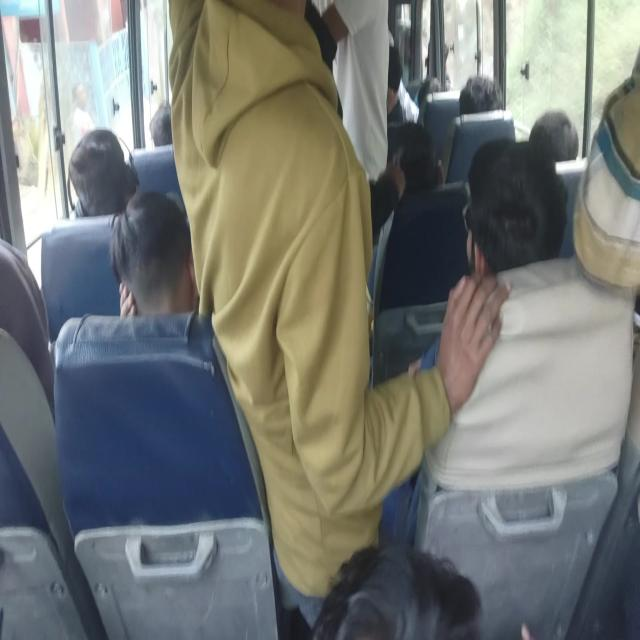person: (174, 0, 356, 419), (317, 492, 493, 640), (475, 158, 577, 350), (588, 52, 640, 387), (115, 207, 208, 336), (0, 250, 45, 466), (71, 134, 131, 232), (531, 113, 593, 191), (388, 128, 444, 214), (455, 50, 504, 114), (153, 92, 190, 168), (382, 52, 415, 118), (420, 29, 448, 79)
